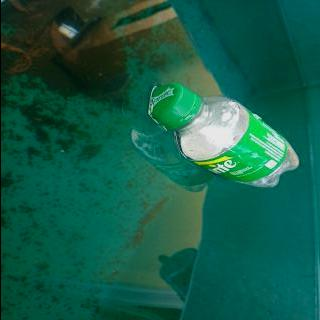bottle: (144, 80, 303, 190)
